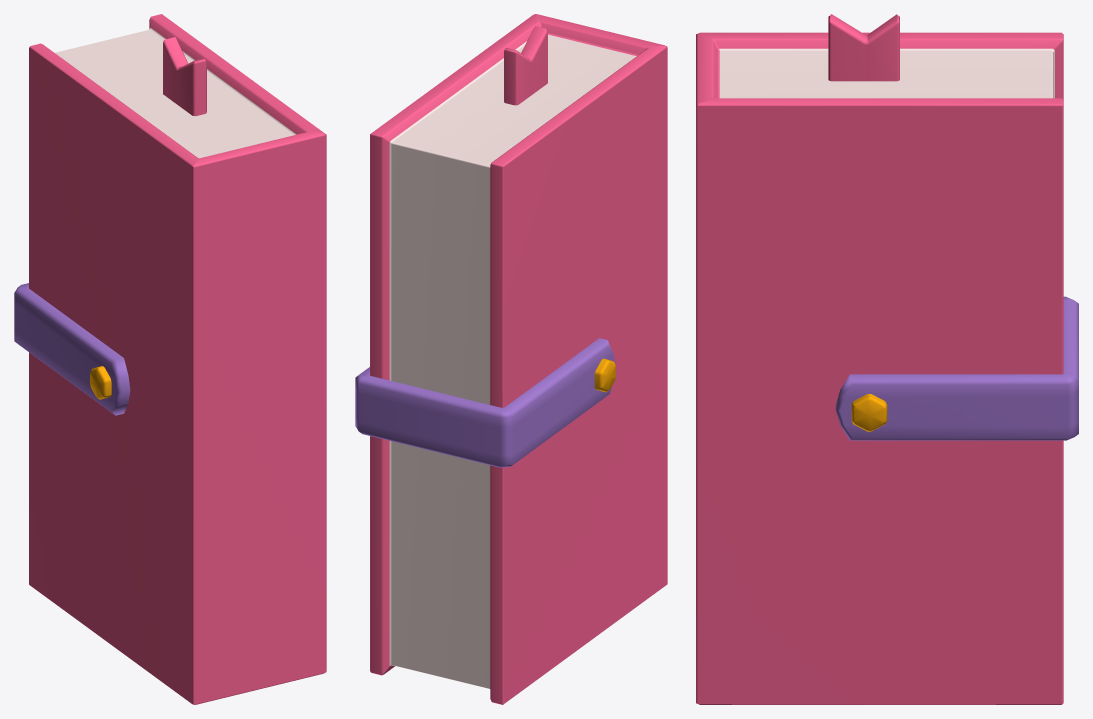
Rendered from Public_2_Book_4.glb.
3 renders of one model, left to right at view 1: azimuth 30°, elevation 25°; view 2: azimuth 150°, elevation 25°; view 3: azimuth 270°, elevation 25°, orthographic. The views are drawn at different scales.
Parts seen in each view (by area): view 1: Public_2_Book_4; view 2: Public_2_Book_4; view 3: Public_2_Book_4.
Boxes of the visible parts, x1,y1,x2,y2 form: Public_2_Book_4: (14, 14, 326, 704); Public_2_Book_4: (355, 14, 667, 704); Public_2_Book_4: (696, 14, 1078, 704).
Bounding box in the file's own units: 0.7177 × 2.34 × 1.24.
Materials: 1 (1 with a texture image).
